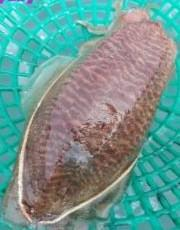Cephalopod: (4, 0, 176, 229)
